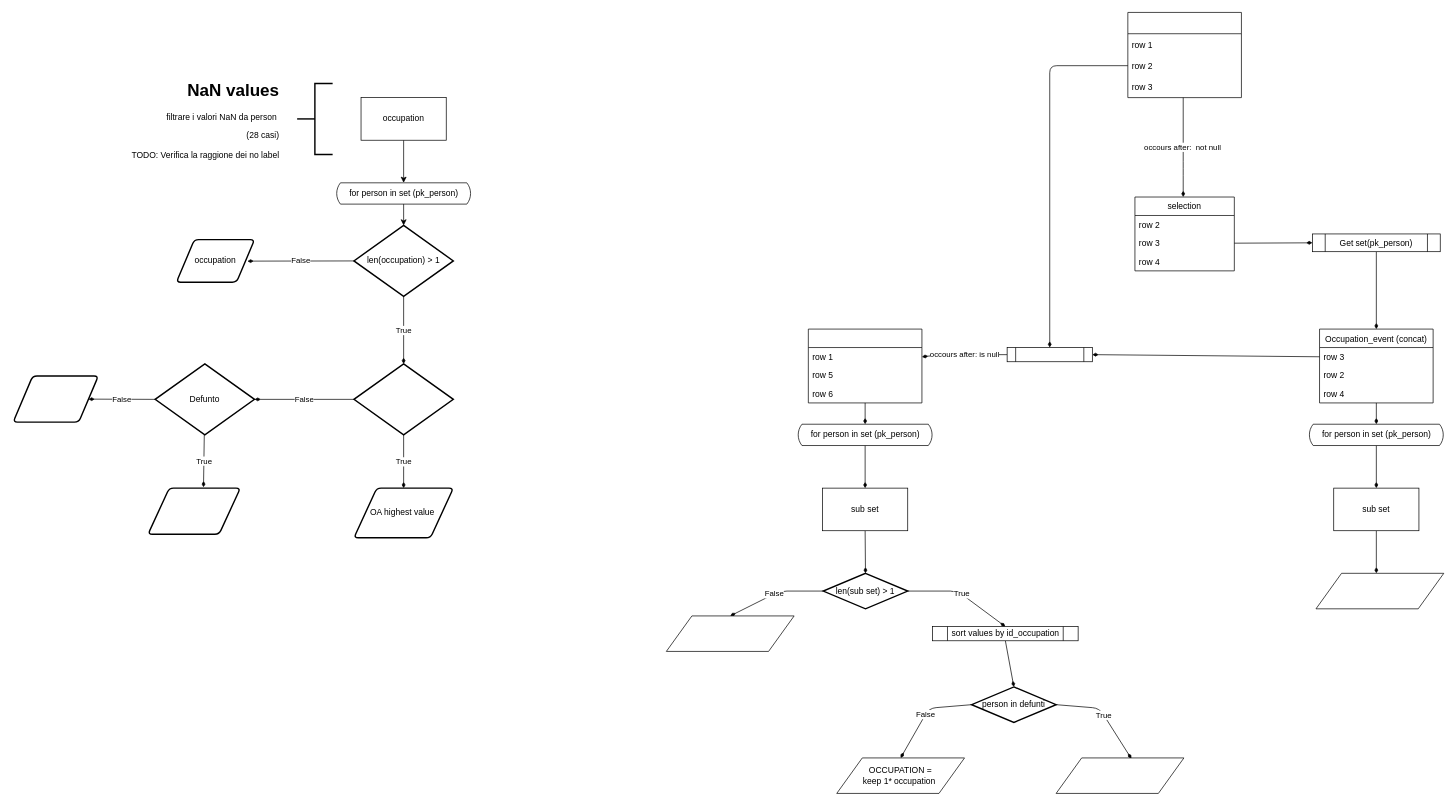
Some shapes in this 1456 by 806 pixel diagram are drawn without their labels. Here are the shapes that lost their labels. From the top down, the box of each, then its label:
(1127, 12, 1241, 98): Occupation_event
(808, 328, 922, 403): Occupation_event (sub set)
(1006, 347, 1092, 362): mask
(12, 375, 99, 422): occupations [0]
(353, 363, 454, 435): ocours after
(147, 487, 241, 535): occupations [-1]
(1315, 573, 1444, 609): OCCUPATION = count_OA.max()
(666, 615, 794, 651): OCCUPATION = occupation
(1055, 757, 1184, 793): OCCUPATION = keep occupation[-1]
